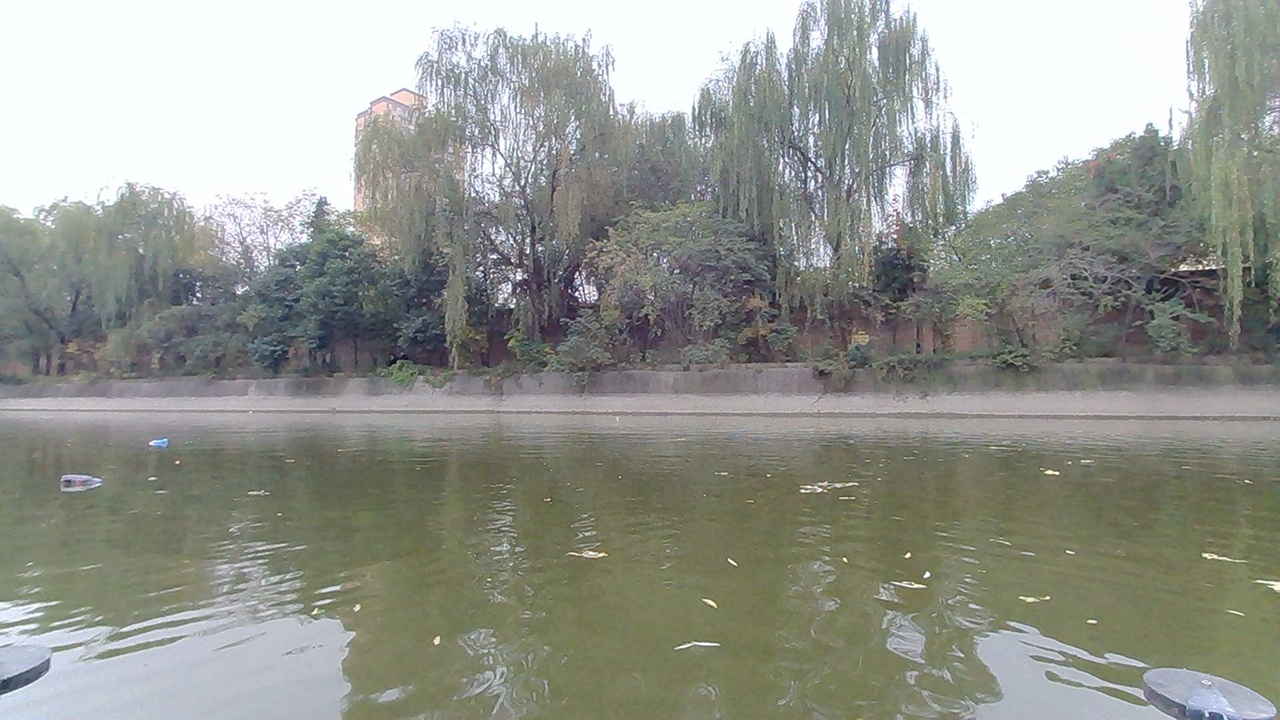bottle: (61, 467, 105, 495), (148, 431, 181, 455)
